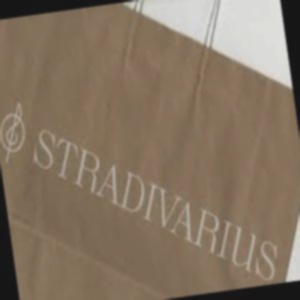stradivarius: (295, 197, 299, 277)
